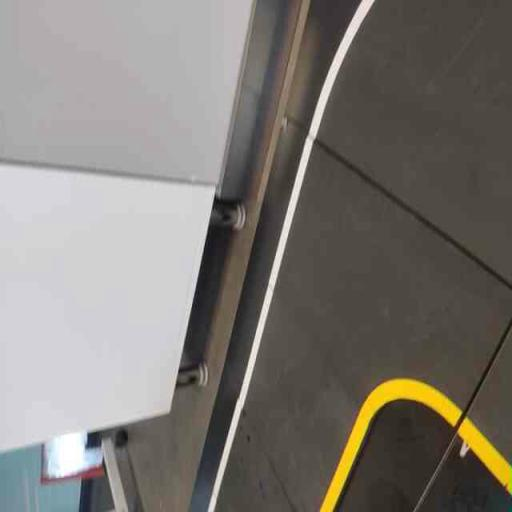left: (238, 110, 511, 457)
